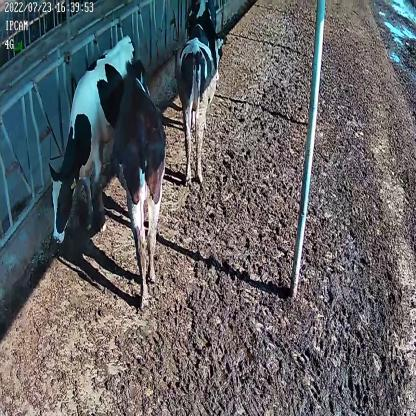cow: (47, 32, 137, 245), (114, 58, 168, 308), (174, 3, 214, 182), (184, 1, 228, 82)
